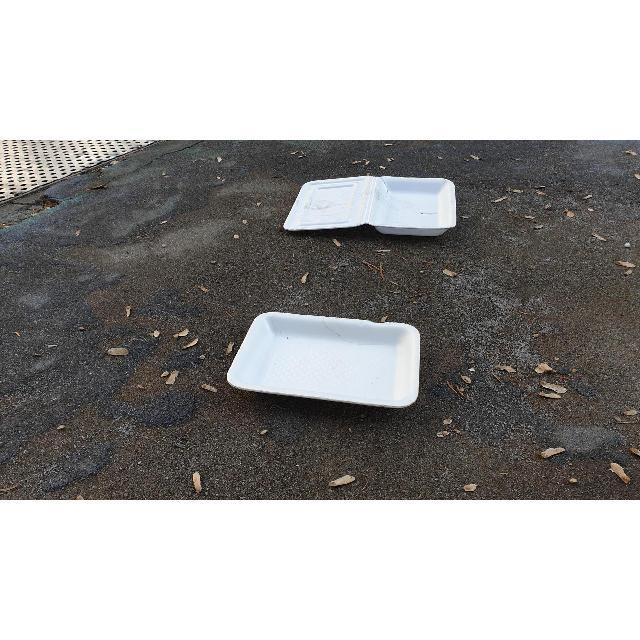Plastico descartable: (226, 312, 421, 411), (283, 177, 458, 238)
